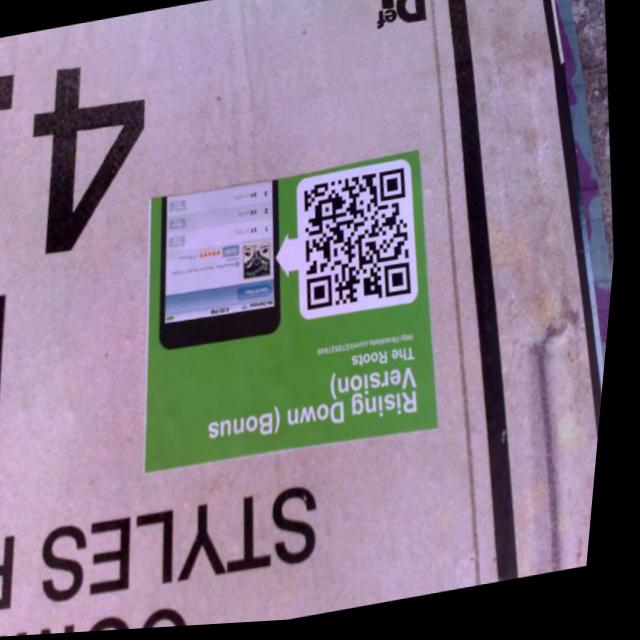qrcode: (298, 173, 425, 316)
